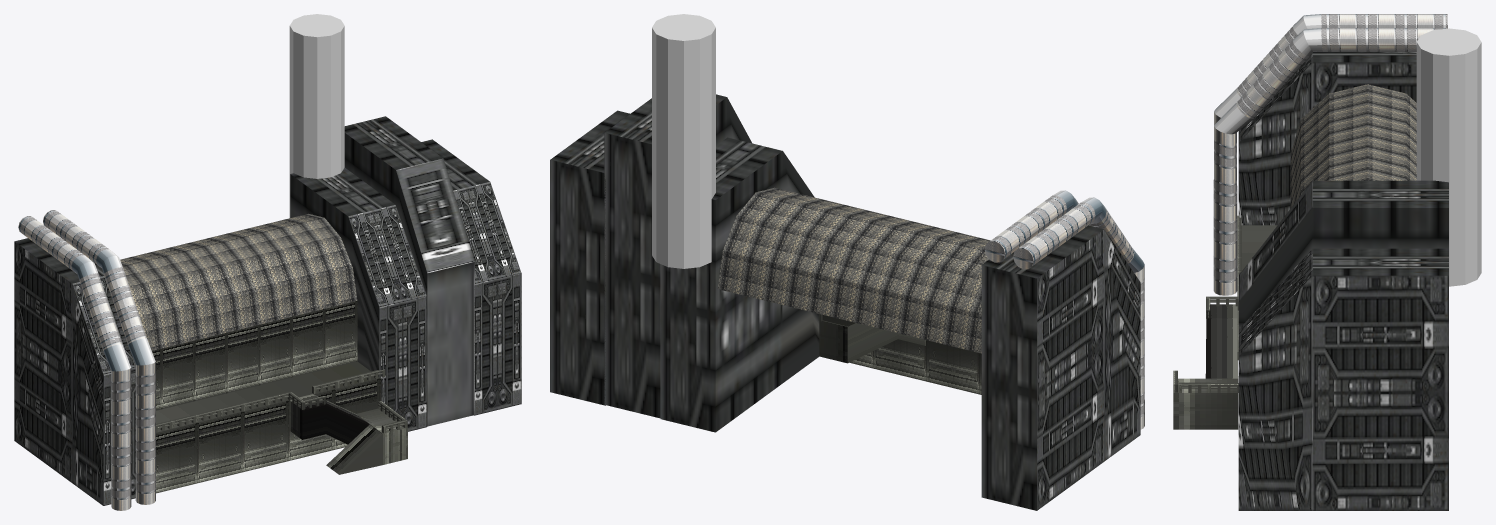
The model's file is generalCorpus.fbx.
3 renders of one model, left to right at view 1: azimuth 30°, elevation 25°; view 2: azimuth 150°, elevation 25°; view 3: azimuth 270°, elevation 25°, orthographic. The views are drawn at different scales.
Parts seen in each view (by area): view 1: roof, Cube.004, Cube.003, Cube.002, Cube, Cube.001, Cube.006, Cylinder.002, Cylinder.001, Cylinder.000, Cube.005, Cube.010; view 2: Cube.004, roof, Cube.002, Cube.003, Cylinder.002, Cube.001, Cube.006, Cylinder.001, Cube.005, Cylinder.000; view 3: Cube.001, Cube.003, Cylinder.002, Cube.004, roof, Cylinder.000, Cube.005, Cylinder.001, Cube.010, Cube.
Boxes of the visible parts, box(x1,y1,x2,y2) form: roof: box(120, 213, 357, 350); Cube.004: box(14, 238, 135, 505); Cube.003: box(344, 116, 474, 426); Cube.002: box(290, 167, 426, 431); Cube: box(152, 301, 380, 431); Cube.001: box(421, 139, 521, 415); Cube.006: box(156, 378, 381, 493); Cylinder.002: box(289, 14, 344, 217); Cylinder.001: box(18, 216, 131, 510); Cylinder.000: box(43, 210, 155, 504); Cube.005: box(289, 394, 407, 474); Cube.010: box(156, 369, 407, 433); Cube.004: box(981, 225, 1140, 510); roof: box(717, 187, 990, 353); Cube.002: box(660, 137, 819, 432); Cube.003: box(604, 94, 752, 418); Cylinder.002: box(652, 14, 715, 268); Cube.001: box(550, 110, 629, 405); Cube.006: box(822, 315, 981, 394); Cylinder.001: box(1013, 197, 1144, 429); Cube.005: box(819, 320, 925, 363); Cylinder.000: box(984, 190, 1088, 262); Cube.001: box(1238, 248, 1448, 510); Cube.003: box(1238, 180, 1448, 328); Cylinder.002: box(1416, 28, 1481, 286); Cube.004: box(1238, 51, 1416, 225); roof: box(1290, 84, 1416, 207); Cylinder.000: box(1213, 28, 1447, 295); Cube.005: box(1173, 304, 1238, 429); Cylinder.001: box(1213, 14, 1447, 199); Cube.010: box(1173, 215, 1241, 392); Cube: box(1237, 225, 1277, 310).
Size of the model in its own units: 1757 by 1371 by 951.
